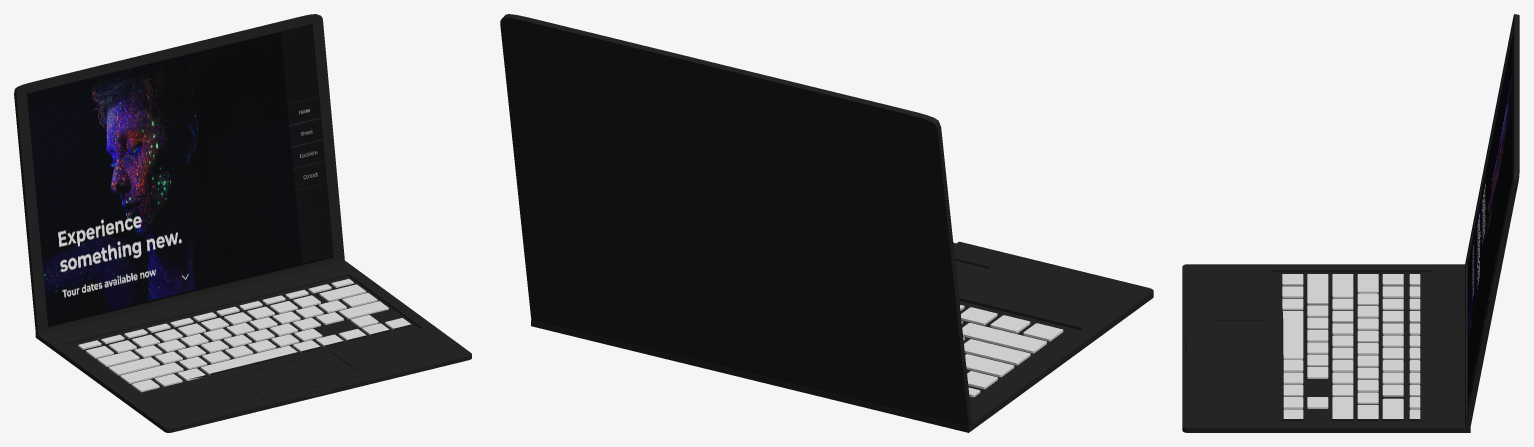
The model's file is laptop.glb.
The picture shows the model from 3 angles, left to right: view 1: azimuth 30°, elevation 25°; view 2: azimuth 150°, elevation 25°; view 3: azimuth 270°, elevation 25°; orthographic projection. The views are drawn at different scales.
Visible parts, largest first — view 1: Laptop; view 2: Laptop; view 3: Laptop.
Part boxes in pixels (x1=…): Laptop: x1=14, y1=14, x2=471, y2=432; Laptop: x1=500, y1=14, x2=1153, y2=432; Laptop: x1=1182, y1=14, x2=1519, y2=432.
Bounding box in the file's own units: 5.35 × 3.92 × 4.65.
Materials: 3 (1 with a texture image).
